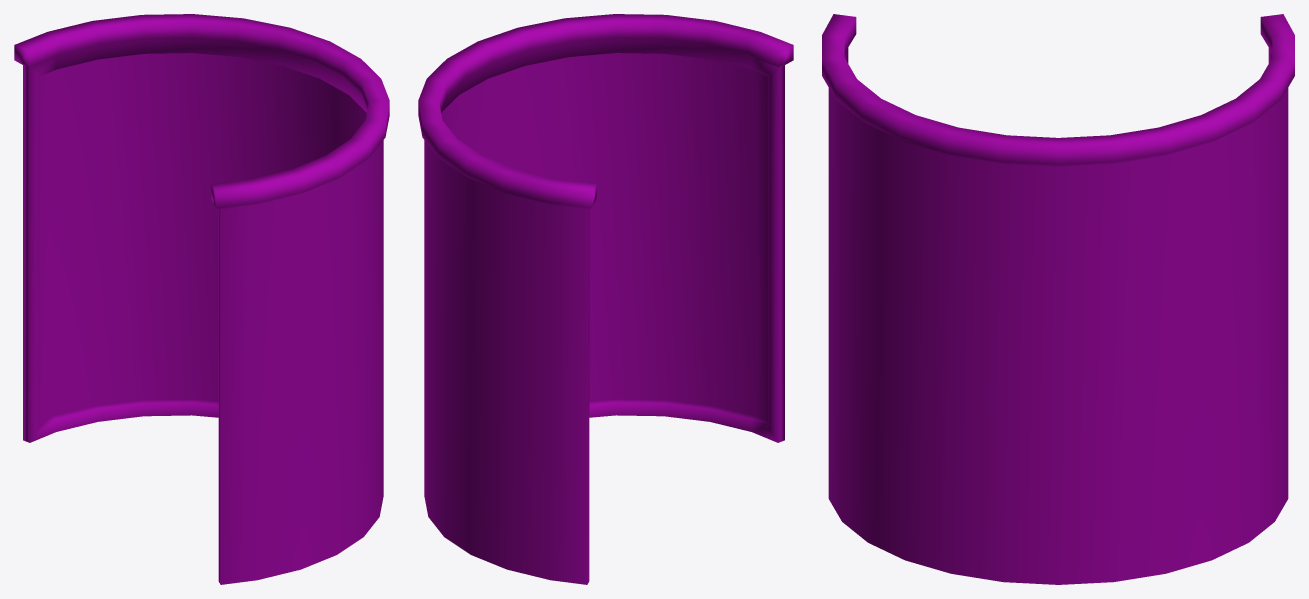
File: UI_SCREEN_SYNC.fbx
The picture shows the model from 3 angles, left to right: view 1: azimuth 30°, elevation 25°; view 2: azimuth 150°, elevation 25°; view 3: azimuth 270°, elevation 25°; orthographic projection. The views are drawn at different scales.
Visible parts, largest first — view 1: pCylinder4; view 2: pCylinder4; view 3: pCylinder4.
Boxes of the visible parts, box(x1,y1,x2,y2) form: pCylinder4: box(14, 14, 389, 584); pCylinder4: box(418, 14, 793, 584); pCylinder4: box(822, 14, 1294, 584).
Size of the model in its own units: 1.67 by 2.57 by 2.5.
